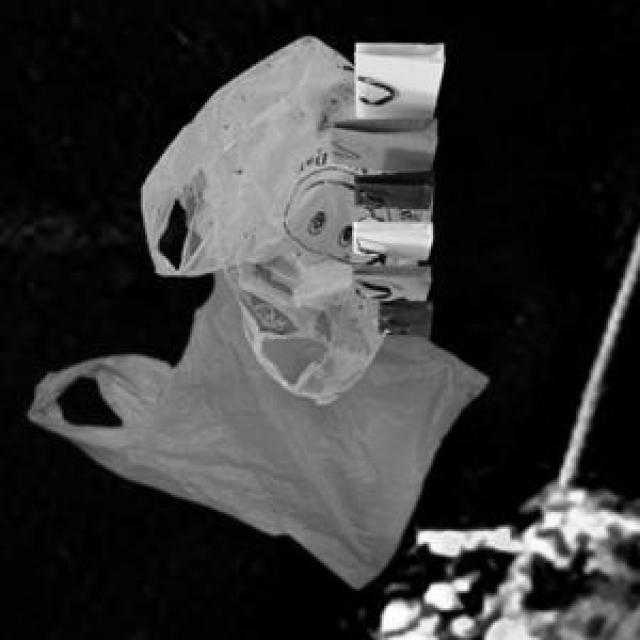paper: (326, 38, 440, 335)
